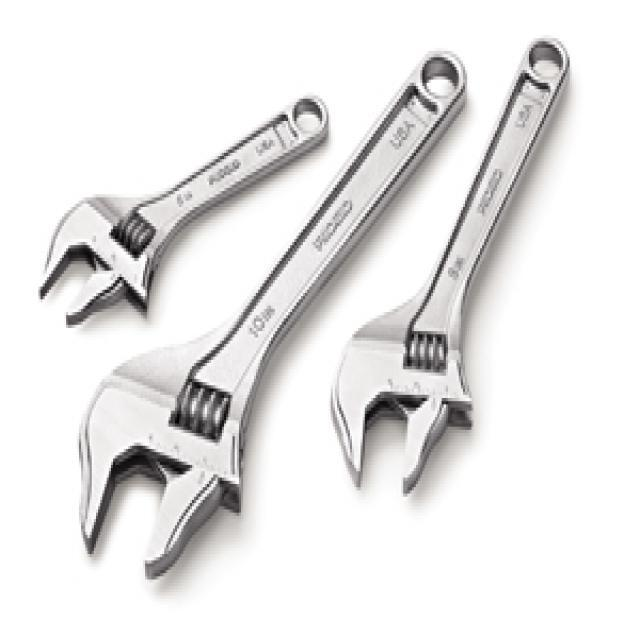wrench: (70, 40, 472, 589), (327, 27, 575, 506), (32, 85, 335, 335)
